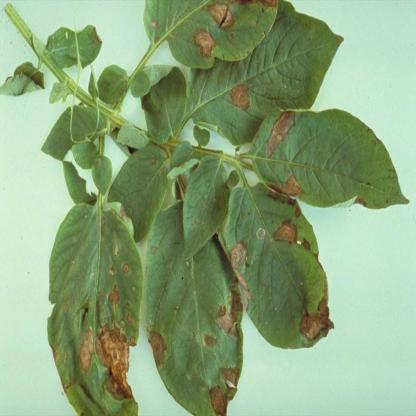Potato leaf early blight: (188, 4, 346, 144), (45, 202, 144, 415), (142, 198, 239, 415), (225, 175, 340, 350), (247, 105, 411, 214), (139, 1, 281, 69)
